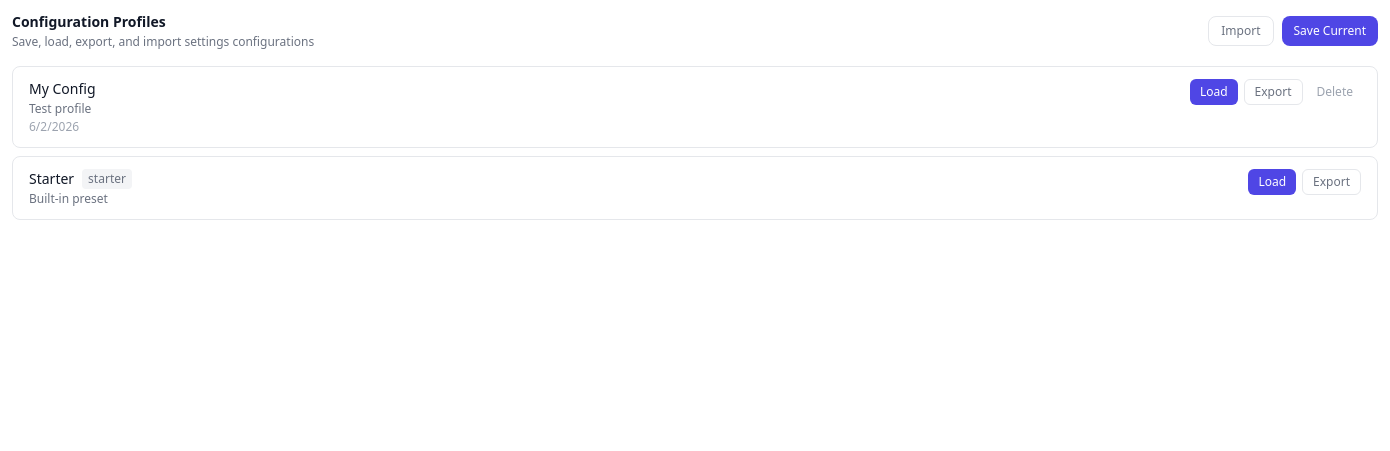
Test case: ConfigProfiles › shows save form when Save Current is clicked
Click the button "Save Current".
click(1330, 31)  # box [1282, 16, 1378, 46]
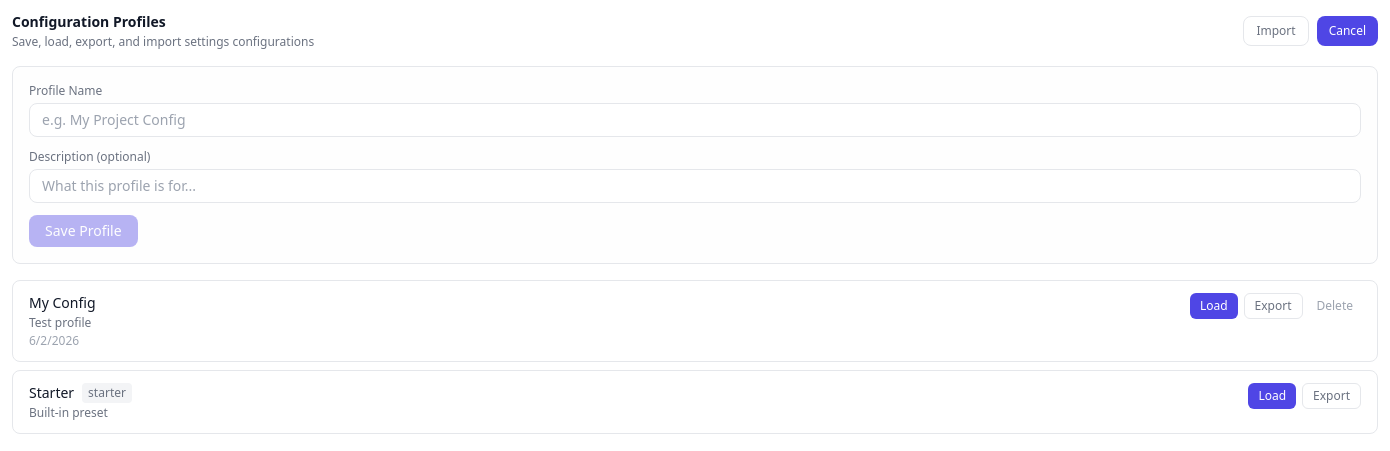
Expected: the field with placeholder "e.g. My Project Config" is shown, [29, 103, 1361, 137]
Expected: the button "Save Profile" is shown, [29, 215, 138, 247]
